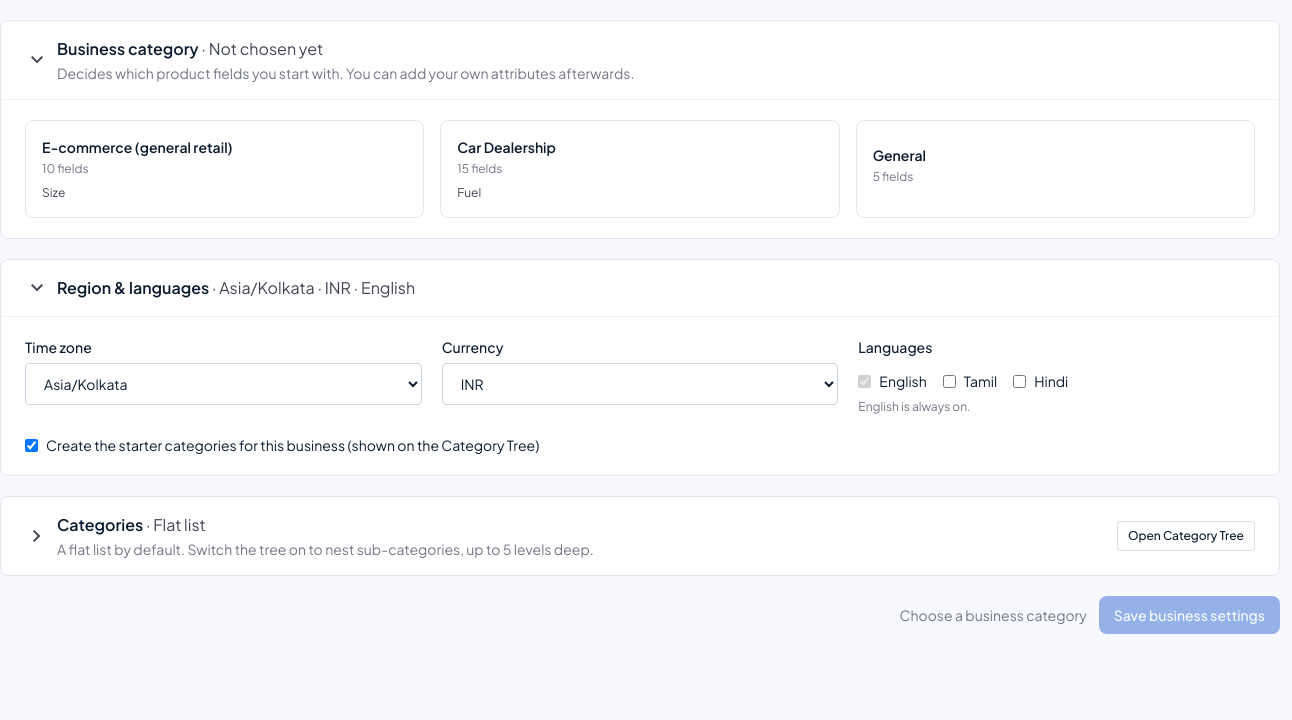
Test: BusinessSettingsTab › reports the starter categories created with the first save
Click the radio button labelled "E-commerce (general retail) 10 fields Size": (137, 147) x1=25 y1=120 x2=424 y2=218
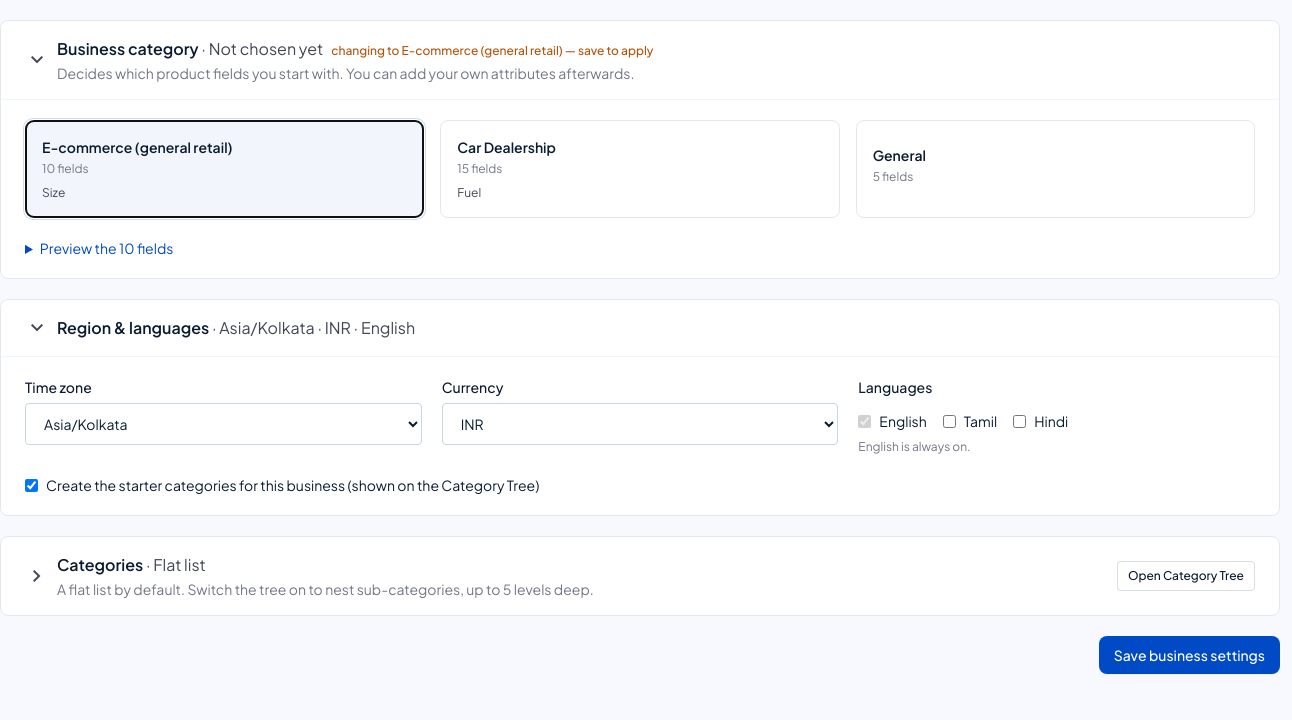
Click the button "Save business settings": (1189, 655) x1=1099 y1=636 x2=1280 y2=674
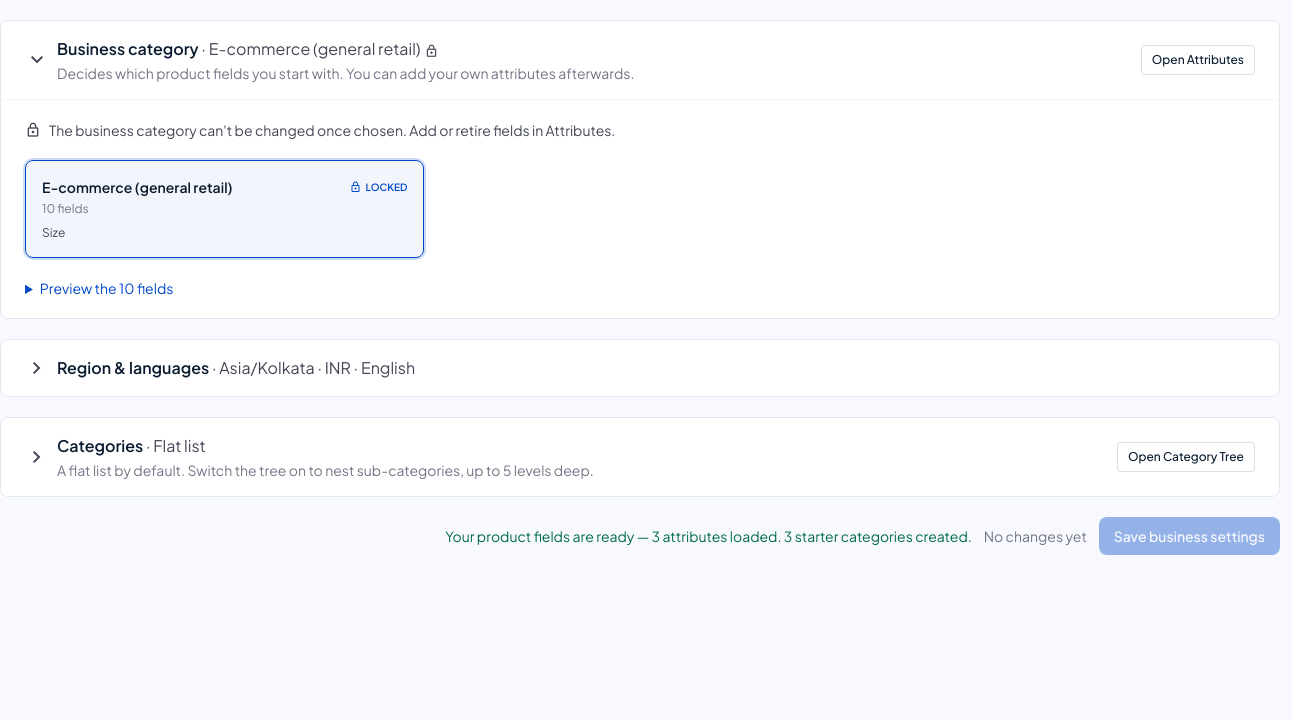
Expected: the message shows "3 attributes loaded. 3 starter categories created.", x1=445 y1=527 x2=972 y2=545
